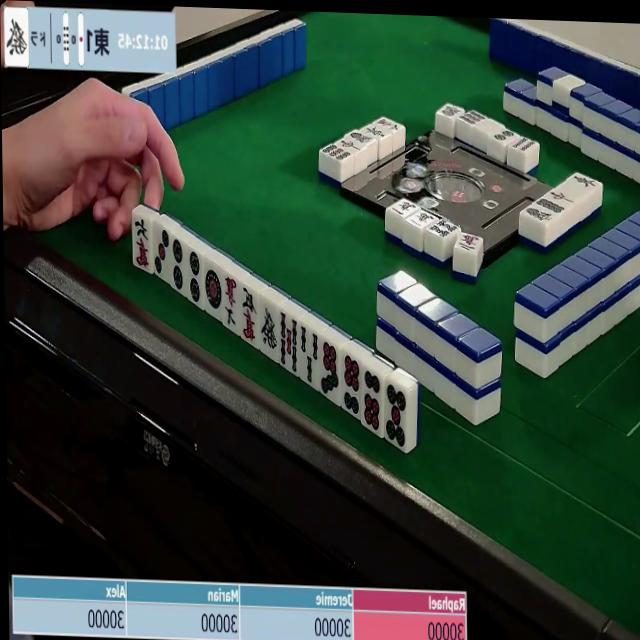fa: (1, 7, 27, 63), (259, 304, 279, 361)
m5: (239, 286, 258, 345)
m6: (132, 216, 152, 274)
m7: (221, 275, 239, 334)
s3: (300, 327, 322, 388)
s5: (278, 313, 301, 377)
t1: (203, 263, 223, 320)
t2: (185, 250, 203, 311), (169, 237, 186, 296)
t3: (152, 226, 170, 283)
t5: (383, 381, 409, 451)
t6: (359, 369, 384, 436), (340, 354, 364, 420)
t7: (317, 339, 340, 403)
